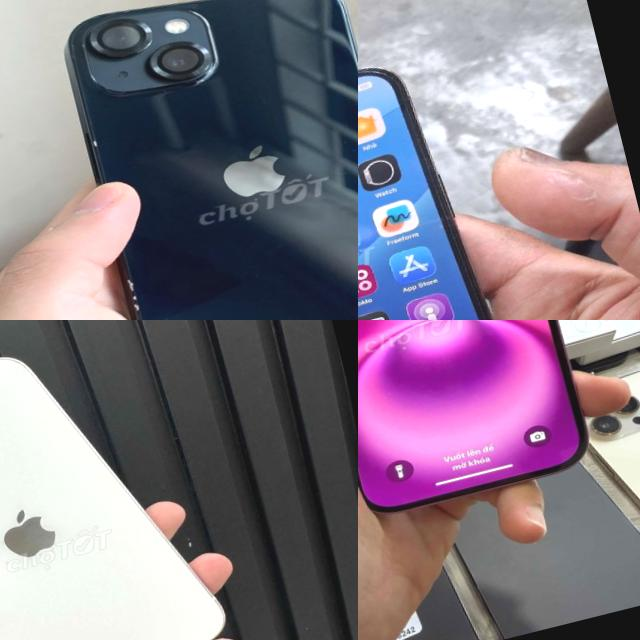gen_12_13: (29, 0, 358, 320), (358, 47, 557, 320)
gen_14: (0, 320, 255, 640)
gen_16: (358, 320, 615, 533)
physical_damage: (111, 261, 166, 320), (78, 129, 118, 159)
